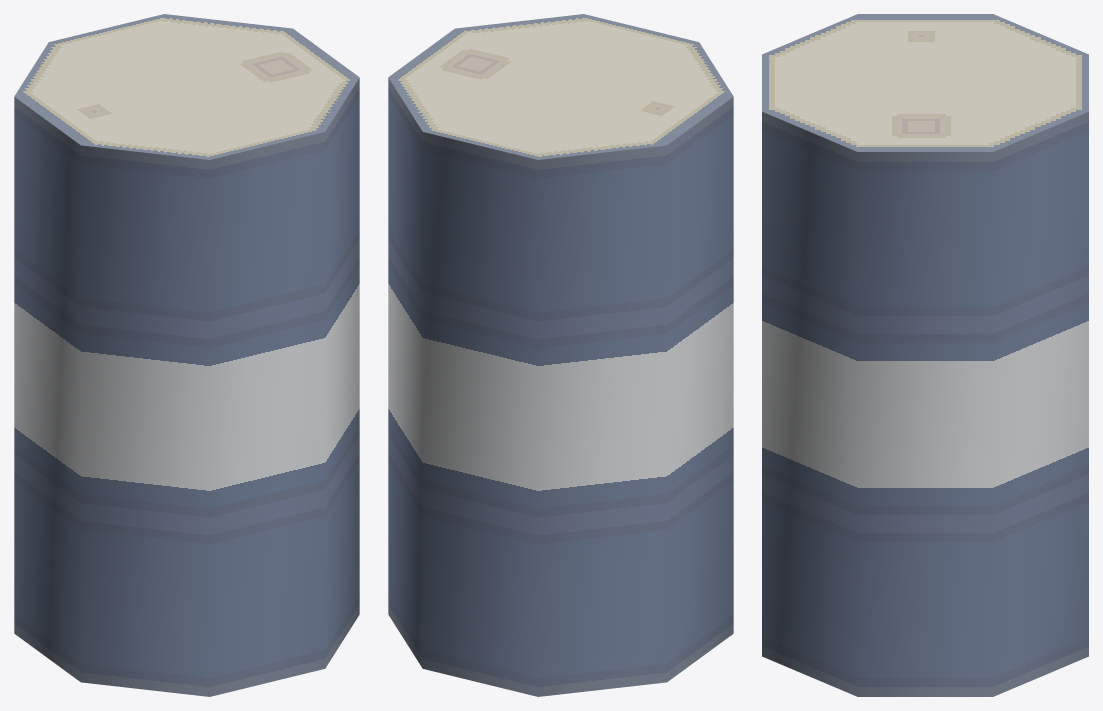
File: 0088_Blue_Oil_Drum.glb
3 renders of one model, left to right at view 1: azimuth 30°, elevation 25°; view 2: azimuth 150°, elevation 25°; view 3: azimuth 270°, elevation 25°, orthographic.
Parts seen in each view (by area): view 1: part_0; view 2: part_0; view 3: part_0.
Part boxes in pixels (bbox=[...]): part_0: bbox=[14, 14, 359, 696]; part_0: bbox=[388, 14, 733, 696]; part_0: bbox=[762, 14, 1088, 696].
Bounding box in the file's own units: 0.4619 × 0.85 × 0.4619.
Materials: 1 (1 with a texture image).
